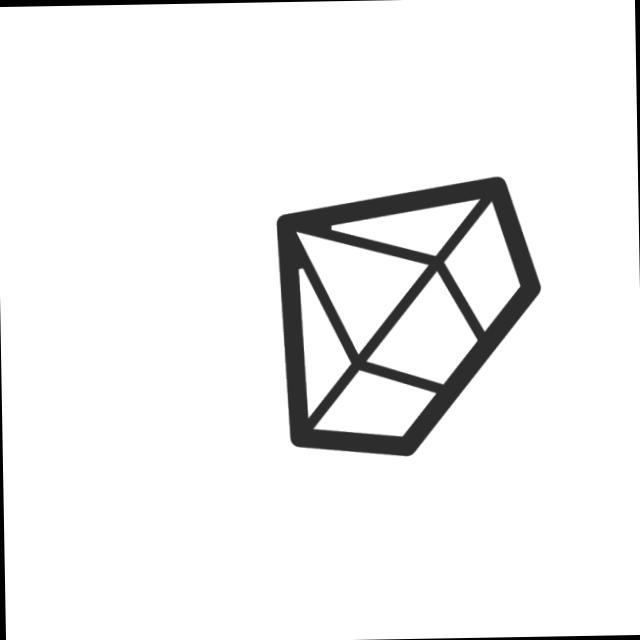diamond: (273, 171, 551, 466)
